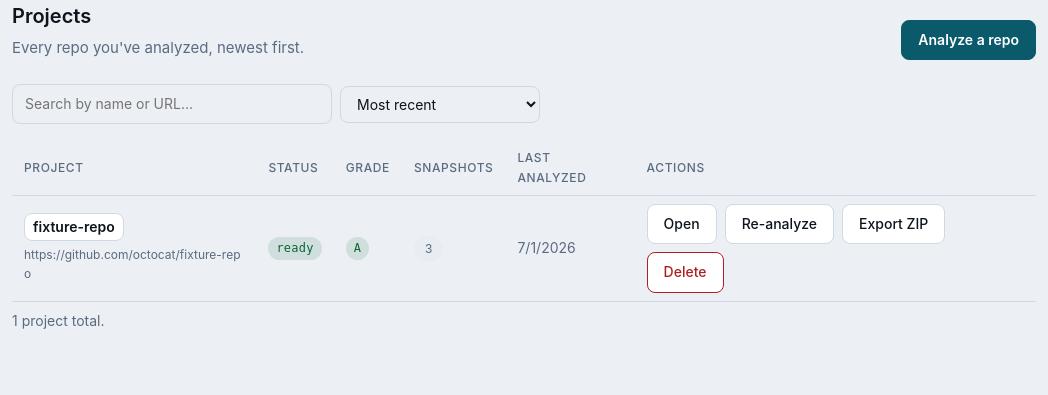
Scenario: ProjectsPage — row actions › Delete is click-to-arm (no native confirm) and refetches the list on success
Expected: the button "fixture-repo" is shown, [24, 213, 124, 241]
First click only arms — no delete request fired yet, row still present.
Click the button "Delete".
click(685, 272)  # box [647, 252, 724, 293]
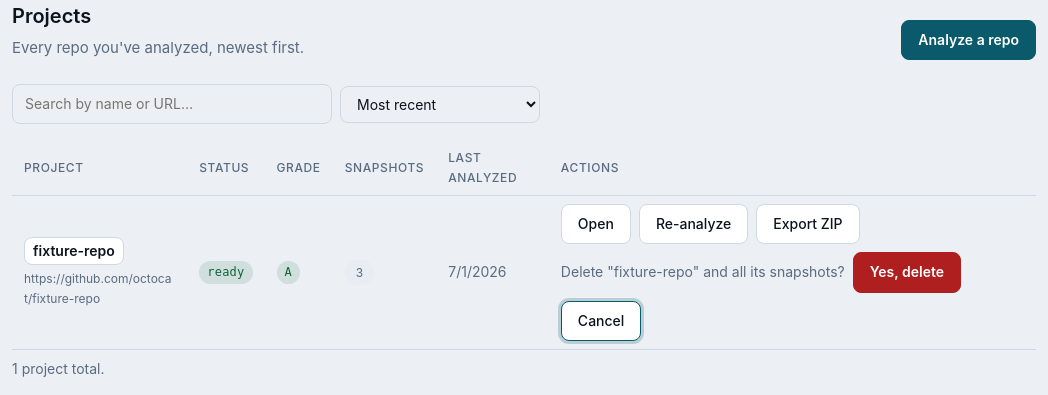
Expected: the button "fixture-repo" is shown, [24, 237, 124, 265]
Click the button "Yes, delete".
click(907, 272)  # box [853, 252, 961, 293]
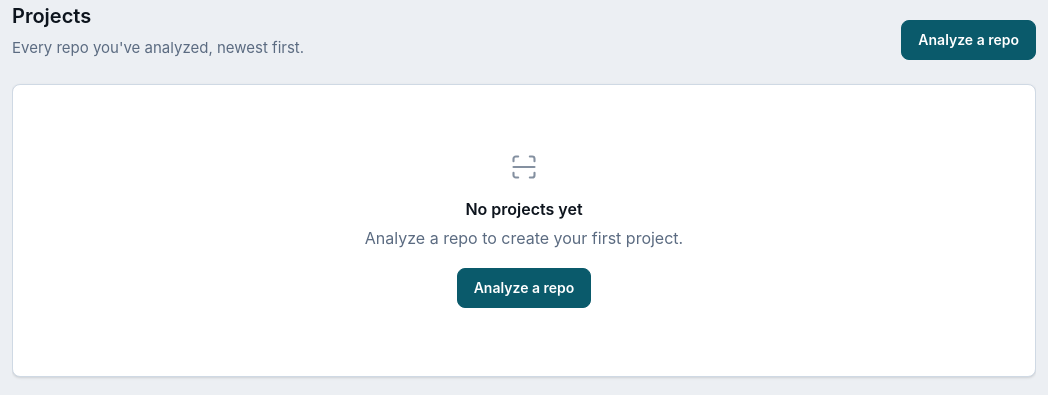
Expected: the text "No projects yet" is shown, [465, 199, 583, 219]
